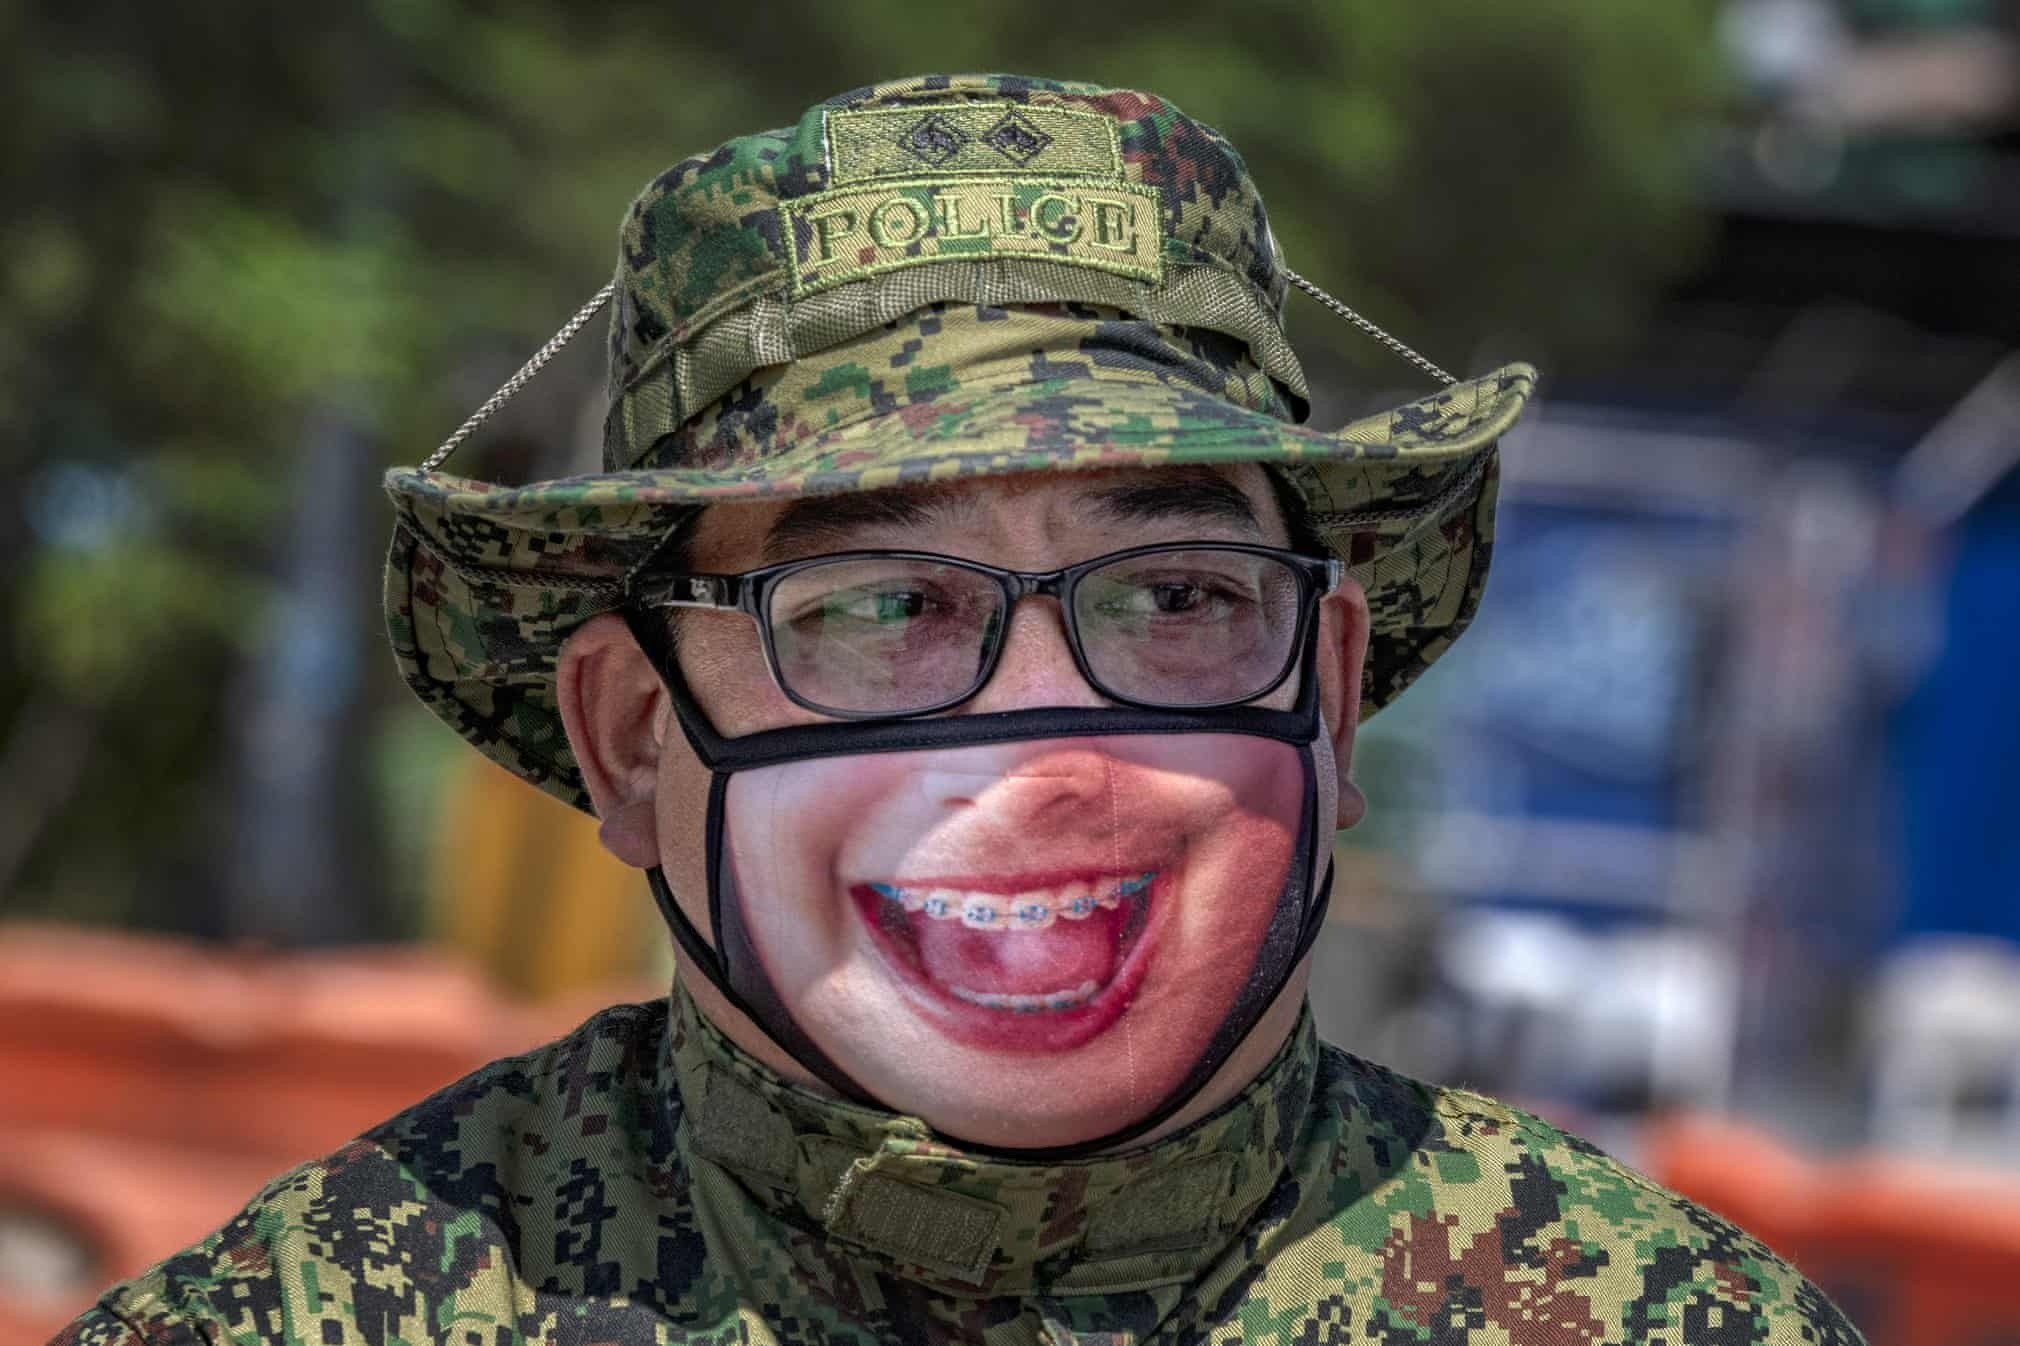face_with_mask: (564, 418, 1380, 1177)
